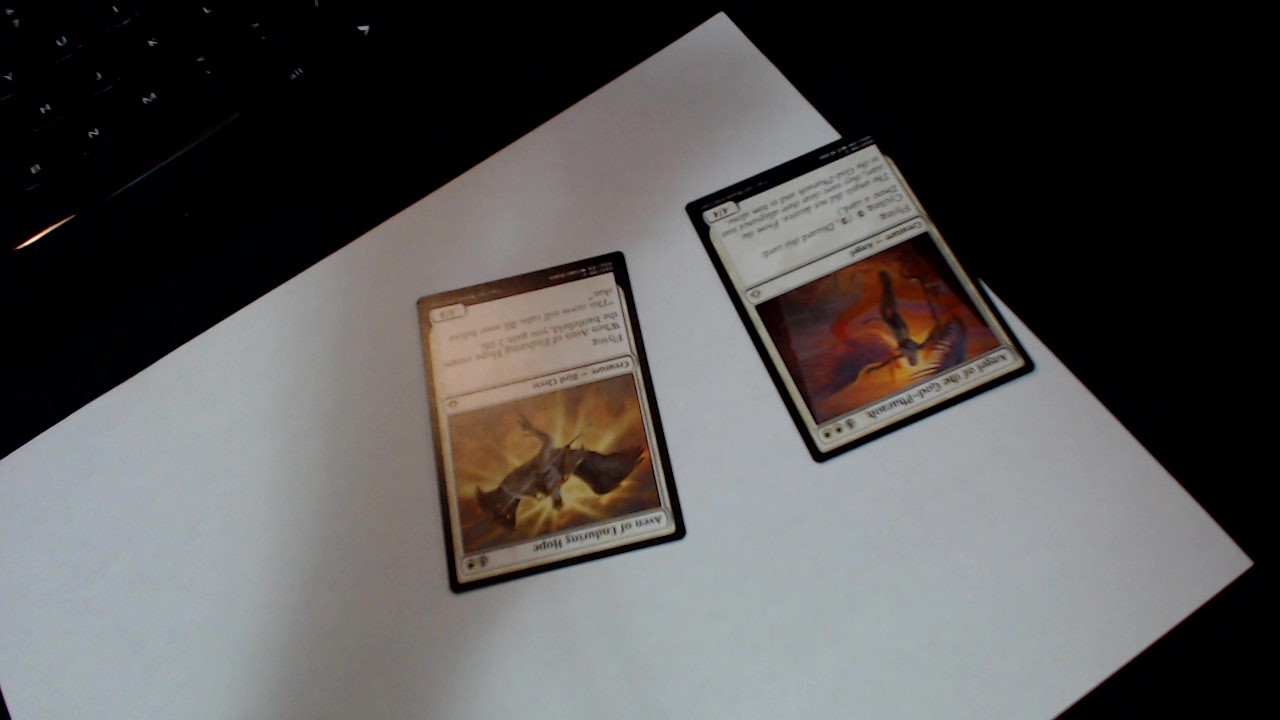MTG Card: (682, 121, 1044, 468), (415, 246, 696, 601)
